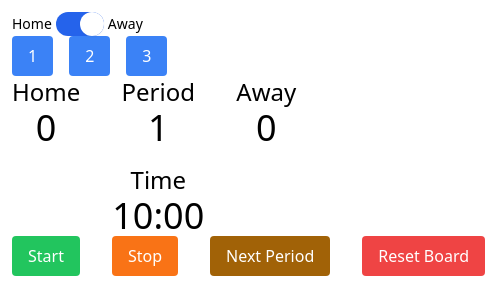
Test: tests without the setup function › stops and restarts timer
Click the button "Start".
click(46, 256)  # box top-left (12, 236), bottom-right (80, 276)
Wait 30000 ms
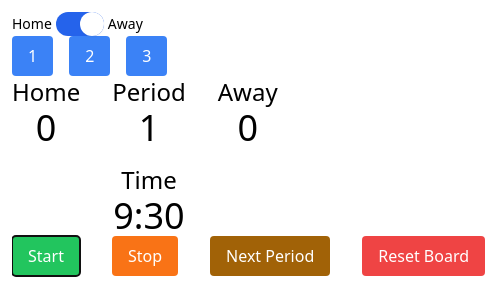
Click the button "Stop".
click(145, 256)  # box top-left (112, 236), bottom-right (178, 276)
Wait 10000 ms
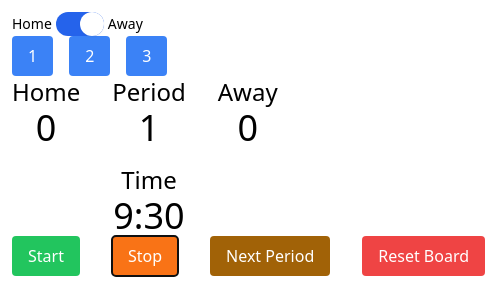
Now the text with test id "time" reads "9:30", box top-left (113, 191), bottom-right (185, 240)
Click the button "Start".
click(46, 256)  # box top-left (12, 236), bottom-right (80, 276)
Wait 10000 ms
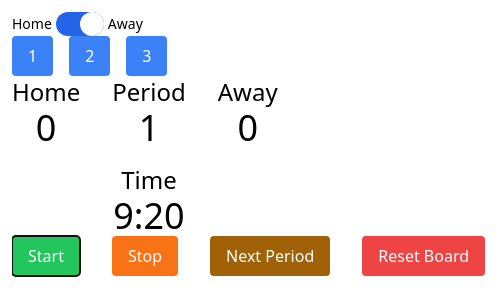
Now the text with test id "time" reads "9:20", box top-left (113, 191), bottom-right (185, 240)
